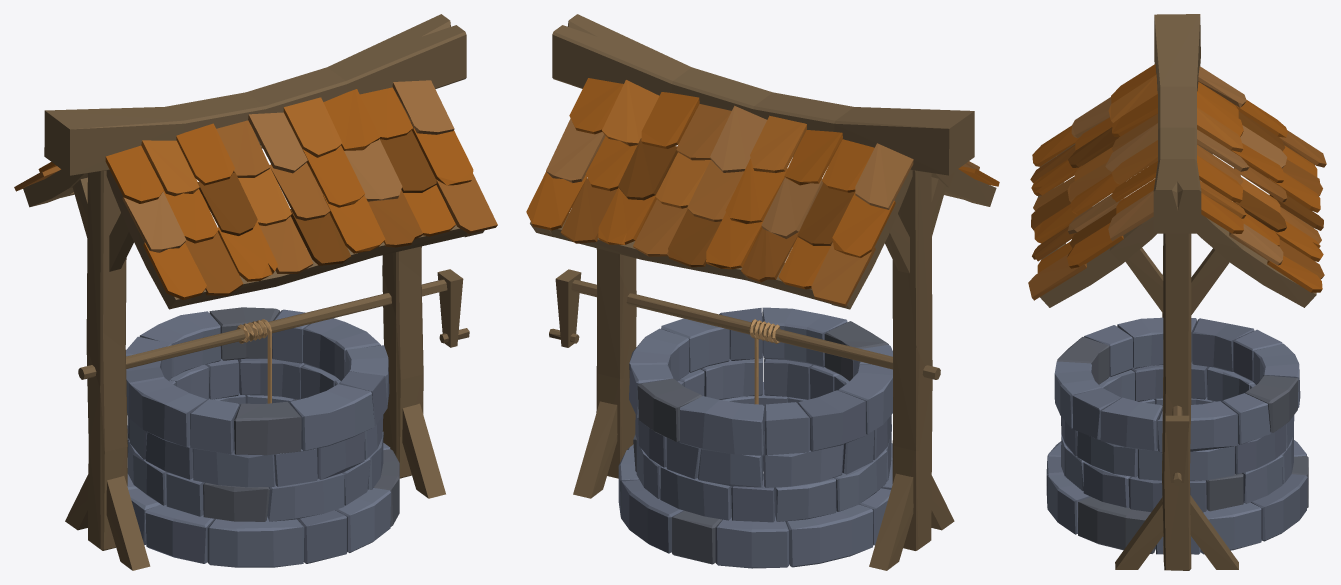
File: Well.fbx
3 views of the same model, side by side, from view 1: azimuth 30°, elevation 25°; view 2: azimuth 150°, elevation 25°; view 3: azimuth 270°, elevation 25° (orthographic). The views are drawn at different scales.
Visible parts, largest first — view 1: Well; view 2: Well; view 3: Well.
Boxes of the visible parts, box(x1,y1,x2,y2) form: Well: box(14, 14, 497, 570); Well: box(526, 14, 999, 570); Well: box(1028, 14, 1326, 570).
Bounding box in the file's own units: 2.33 × 2.37 × 1.61.
